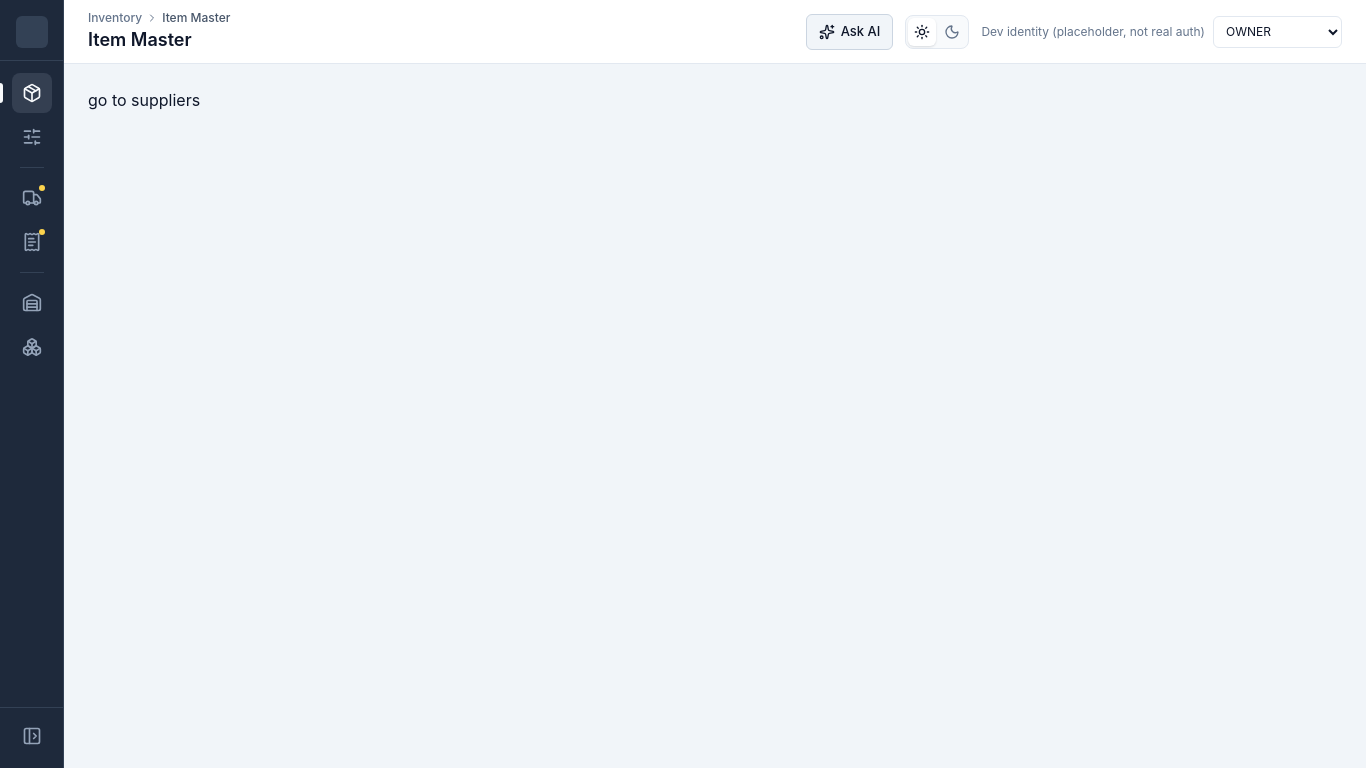
Test: Composer rules › server 400 puts the question back in the composer with the reason underneath
The image size is (1366, 768).
Click the button "Ask AI": x=850, y=32 [806, 14, 893, 50]
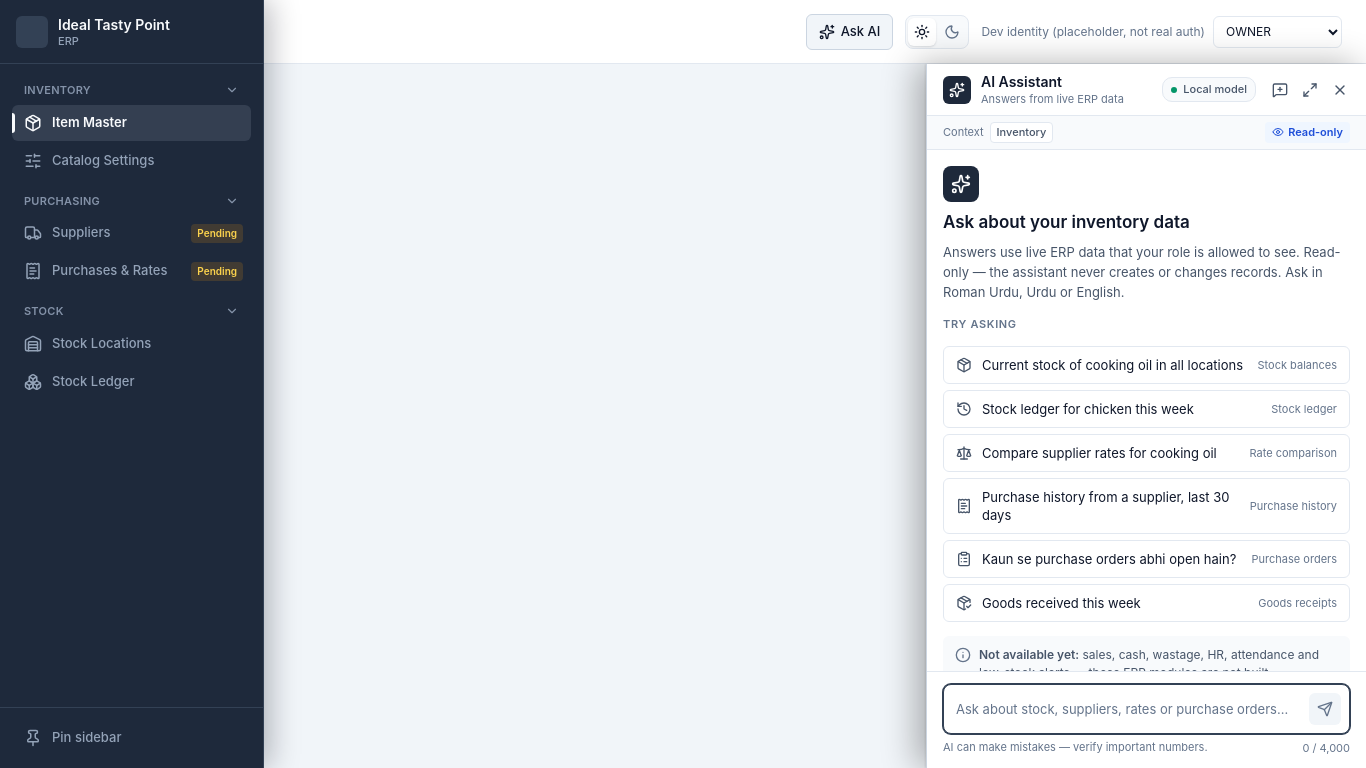
In the text box named "Message to the AI Assistant": x=1128, y=708 [956, 692, 1301, 724], type "hello"
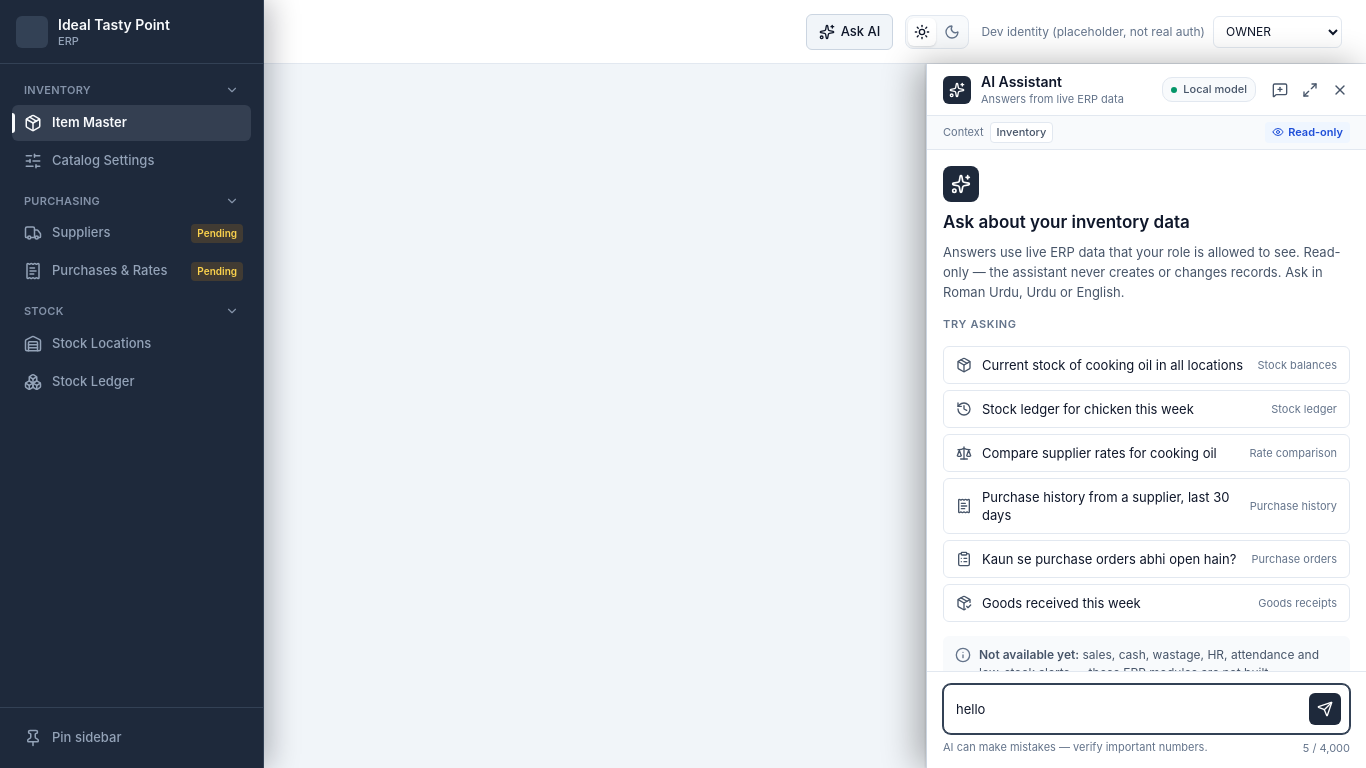
Press Enter
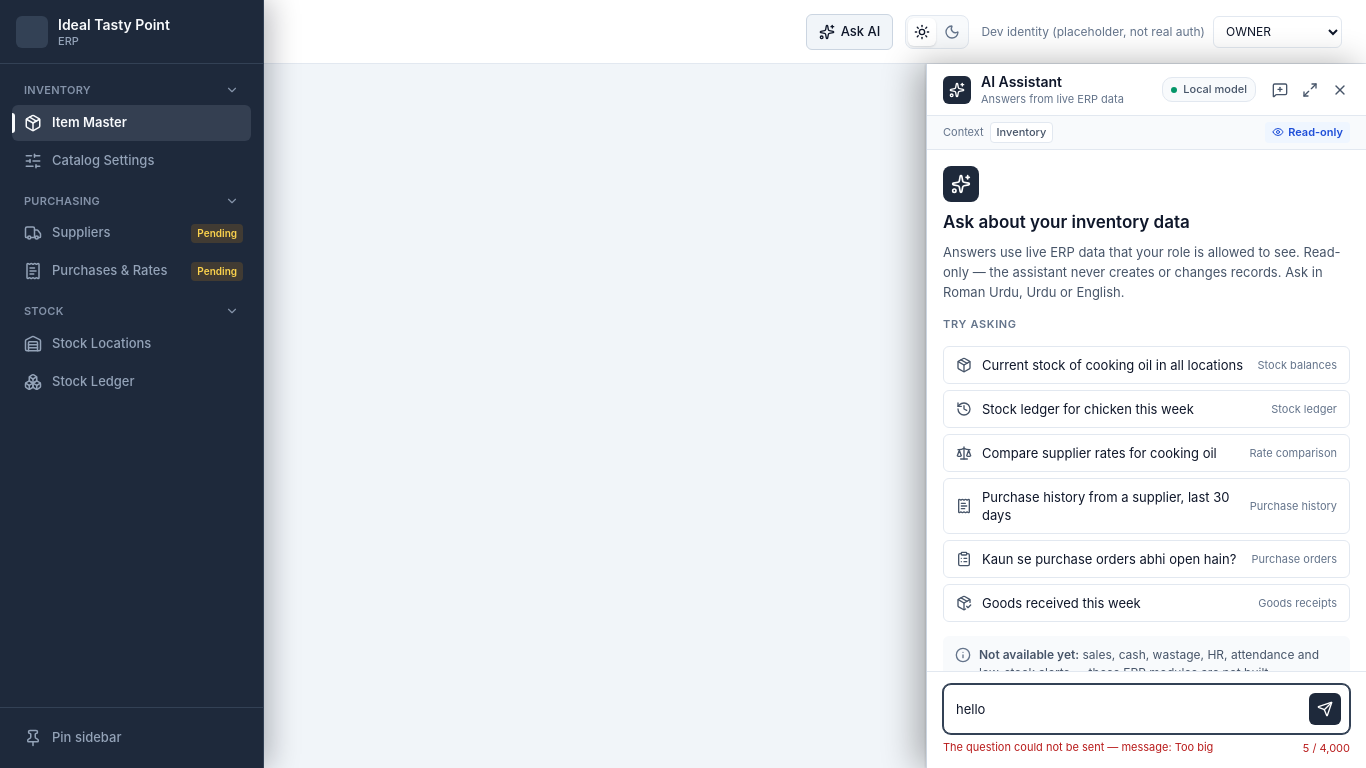
Now the text "The question could not be sent — message: Too big" is shown, box [943, 740, 1213, 754]
